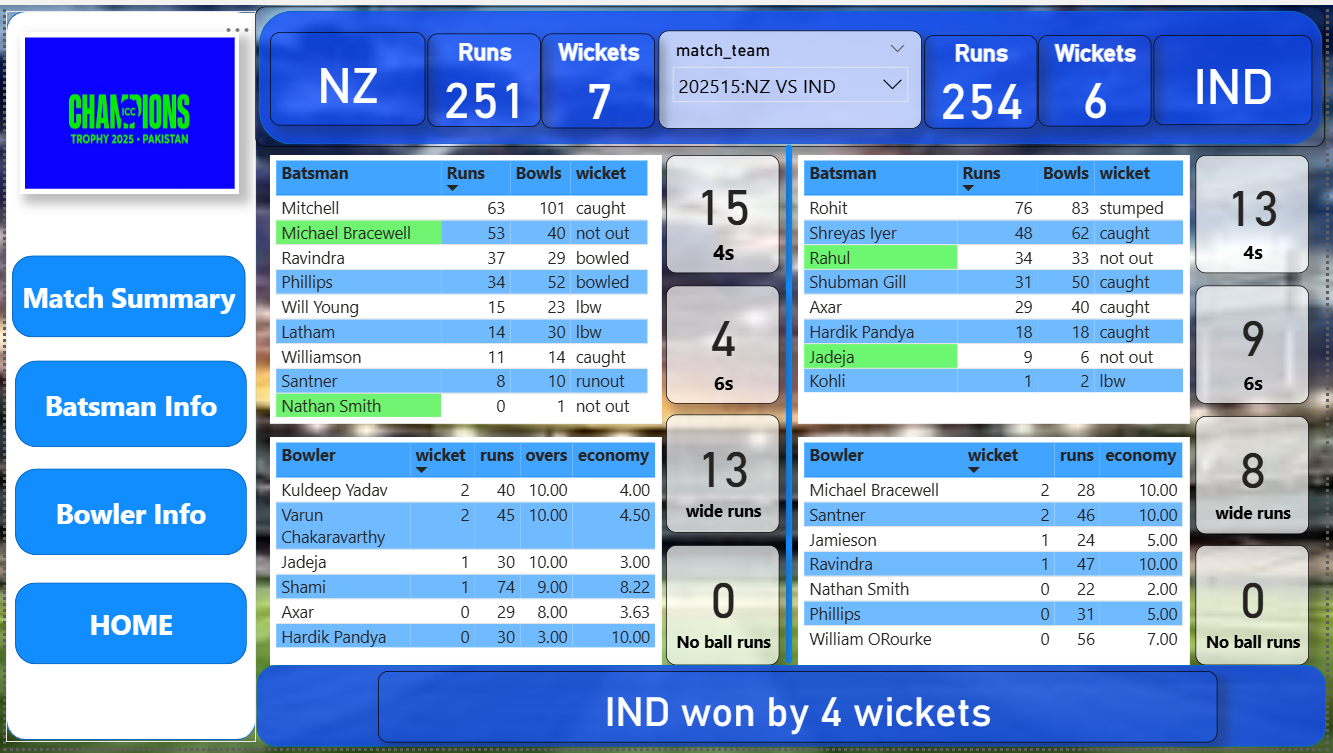

The dashboard page shown, as its layout file describes it:
{"tool":"powerbi","page":{"name":"Match Summary","canvas":[1280,720],"ordinal":1},"visuals":[{"type":"shape","box":[0,6.5,242.7,707.1],"z":0},{"type":"image","box":[12.9,25.9,213.6,156.9],"z":1000},{"type":"shape","box":[8.1,344.6,224.9,84.1],"z":2000},{"type":"shape","box":[8.1,449.8,224.9,84.1],"z":3000},{"type":"shape","box":[6.5,242.7,226.5,79.3],"z":4000},{"type":"shape","box":[241.1,1.6,1037.1,135.9],"z":5000},{"type":"slicer","fields":{"Values":["match_summary.match_team"]},"box":[632.6,24.3,255.6,95.5],"z":6000},{"type":"card","fields":{"Values":["match_summary.batting_team_x"]},"box":[255.6,25.9,150.5,90.6],"z":7000},{"type":"card","fields":{"Values":["match_summary.batting_team_y"]},"box":[1113.2,29.1,153.7,87.4],"z":8000},{"type":"card","title":"Runs","fields":{"Values":["match_summary.team1"]},"box":[446.6,242.7,110,92.2],"z":9000},{"type":"card","title":"Wickets","fields":{"Values":["match_summary.wickets1"]},"box":[520,27.5,110,92.2],"z":10000},{"type":"card","title":"Wickets","fields":{"Values":["match_summary.wickets2"]},"box":[1000.1,29.1,110,89],"z":11000},{"type":"card","title":"Runs","fields":{"Values":["match_summary.team2"]},"box":[890.1,29.1,110,90.6],"z":12000},{"type":"tableEx","fields":{"Values":["batsman.striker","batsman.runs_of_bat","batsman.bowl_faced","batsman.wickets.wicket_type"]},"box":[255.6,145.6,380.2,260.5],"z":13000},{"type":"tableEx","fields":{"Values":["bowler.bowler","bowler.wickets","bowler.runs","bowler.overs","bowler.economy"]},"box":[255.6,419.1,380.2,221.7],"z":14000},{"type":"shape","box":[737.8,135.9,43.7,503.2],"z":15000},{"type":"card","fields":{"Values":["batsman.4s"]},"box":[640.7,145.6,110,114.9],"z":16000},{"type":"card","fields":{"Values":["batsman.6s"]},"box":[640.7,271.8,110,114.9],"z":17000},{"type":"card","fields":{"Values":["bowler.wide_runs"]},"box":[640.7,396.4,110,114.9],"z":18000},{"type":"card","fields":{"Values":["bowler.noball_runs"]},"box":[640.7,524.2,110,116.5],"z":19000},{"type":"tableEx","fields":{"Values":["batsman.striker","batsman.runs_of_bat","batsman.bowl_faced","batsman.wickets.wicket_type"]},"box":[768.5,145.6,380.2,260.5],"z":20000},{"type":"tableEx","fields":{"Values":["bowler.bowler","bowler.wickets","bowler.runs","bowler.overs"]},"box":[768.5,419.1,380.2,221.7],"z":21000},{"type":"card","fields":{"Values":["batsman.4s"]},"box":[1153.6,145.6,110,114.9],"z":22000},{"type":"card","fields":{"Values":["batsman.6s"]},"box":[1153.6,271.8,110,114.9],"z":23000},{"type":"card","fields":{"Values":["bowler.wide_runs"]},"box":[1153.6,398,110,114.9],"z":24000},{"type":"card","fields":{"Values":["bowler.noball_runs"]},"box":[1153.6,524.2,110,116.5],"z":25000},{"type":"shape","box":[242.7,640.7,1037.1,79.3],"z":26000},{"type":"card","fields":{"Values":["match_summary.Column 4"]},"box":[360.8,645.6,813.8,69.6],"z":27000},{"type":"shape","box":[8.1,559.8,224.9,79.3],"z":28000},{"type":"card","title":"Runs","fields":{"Values":["match_summary.team1"]},"box":[409.2,27.5,110,90.6],"z":29000}]}

Visuals, with their boxes in screenshot pixels (x1, y1, x2, y2), scaled from the page's 1280x720 canvas onto the 1333x753 screenshot:
shape: {"left": 0, "top": 7, "right": 253, "bottom": 746}
image: {"left": 13, "top": 27, "right": 236, "bottom": 191}
shape: {"left": 8, "top": 360, "right": 243, "bottom": 448}
shape: {"left": 8, "top": 470, "right": 243, "bottom": 558}
shape: {"left": 7, "top": 254, "right": 243, "bottom": 337}
shape: {"left": 251, "top": 2, "right": 1331, "bottom": 144}
slicer - match_summary.match_team: {"left": 659, "top": 25, "right": 925, "bottom": 125}
card - match_summary.batting_team_x: {"left": 266, "top": 27, "right": 423, "bottom": 122}
card - match_summary.batting_team_y: {"left": 1159, "top": 30, "right": 1319, "bottom": 122}
"Runs" card: {"left": 465, "top": 254, "right": 580, "bottom": 350}
"Wickets" card: {"left": 542, "top": 29, "right": 656, "bottom": 125}
"Wickets" card: {"left": 1042, "top": 30, "right": 1156, "bottom": 124}
"Runs" card: {"left": 927, "top": 30, "right": 1042, "bottom": 125}
tableEx - batsman.striker x batsman.runs_of_bat: {"left": 266, "top": 152, "right": 662, "bottom": 425}
tableEx - bowler.bowler x bowler.wickets: {"left": 266, "top": 438, "right": 662, "bottom": 670}
shape: {"left": 768, "top": 142, "right": 814, "bottom": 668}
card - batsman.4s: {"left": 667, "top": 152, "right": 782, "bottom": 272}
card - batsman.6s: {"left": 667, "top": 284, "right": 782, "bottom": 404}
card - bowler.wide_runs: {"left": 667, "top": 415, "right": 782, "bottom": 535}
card - bowler.noball_runs: {"left": 667, "top": 548, "right": 782, "bottom": 670}
tableEx - batsman.striker x batsman.runs_of_bat: {"left": 800, "top": 152, "right": 1196, "bottom": 425}
tableEx - bowler.bowler x bowler.wickets: {"left": 800, "top": 438, "right": 1196, "bottom": 670}
card - batsman.4s: {"left": 1201, "top": 152, "right": 1316, "bottom": 272}
card - batsman.6s: {"left": 1201, "top": 284, "right": 1316, "bottom": 404}
card - bowler.wide_runs: {"left": 1201, "top": 416, "right": 1316, "bottom": 536}
card - bowler.noball_runs: {"left": 1201, "top": 548, "right": 1316, "bottom": 670}
shape: {"left": 253, "top": 670, "right": 1332, "bottom": 752}
card - match_summary.Column 4: {"left": 376, "top": 675, "right": 1223, "bottom": 748}
shape: {"left": 8, "top": 585, "right": 243, "bottom": 668}
"Runs" card: {"left": 426, "top": 29, "right": 541, "bottom": 124}
